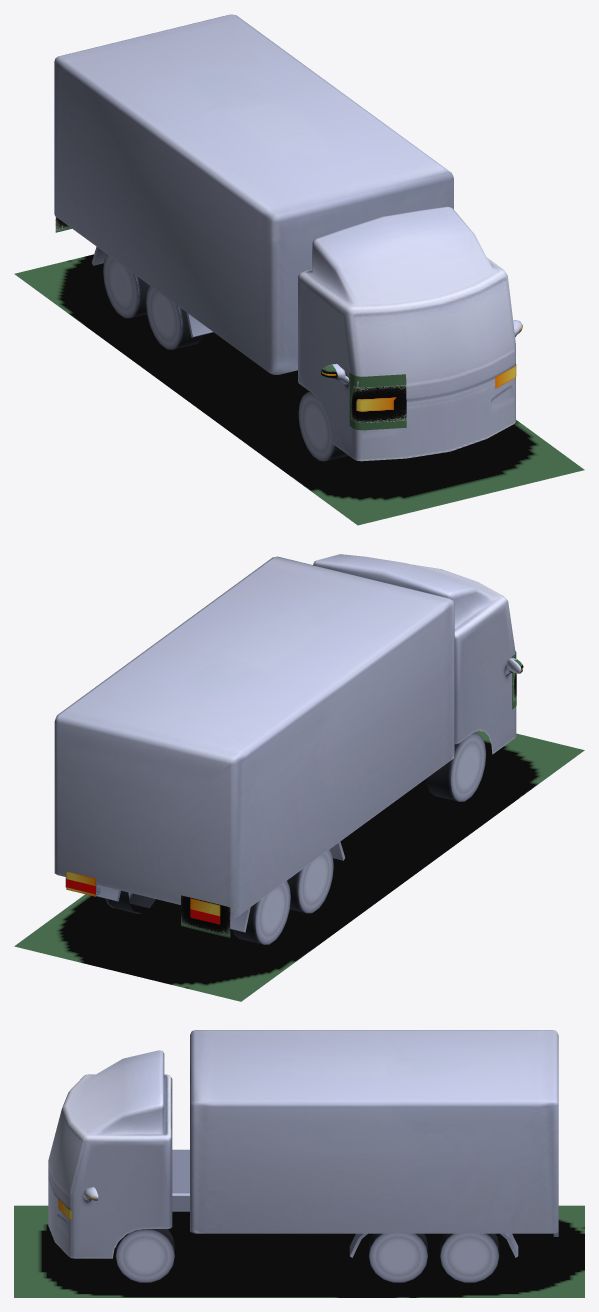
Rendered from VAN.fbx.
3 renders of one model, top to bottom at view 1: azimuth 30°, elevation 25°; view 2: azimuth 150°, elevation 25°; view 3: azimuth 270°, elevation 25°, orthographic. The views are drawn at different scales.
Parts seen in each view (by area): view 1: CA_Car, CA_Shadow, CA_RF, CA_RDirection, CA_WB_A, CA_WB_B, CA_W_RF; view 2: CA_Car, CA_Shadow, CA_RF, CA_WB_B, CA_W_RF, CA_WB_A, CA_RDirection; view 3: CA_Car, CA_Shadow, CA_LF, CA_W_LF, CA_WB_B, CA_WB_A.
Boxes of the visible parts, box(x1,y1,x2,y2) form: CA_Car: box(54, 14, 515, 461); CA_Shadow: box(14, 254, 584, 525); CA_RF: box(301, 286, 350, 435); CA_RDirection: box(55, 217, 406, 430); CA_WB_A: box(146, 286, 204, 349); CA_WB_B: box(103, 254, 149, 318); CA_W_RF: box(298, 392, 348, 461); CA_Car: box(54, 554, 516, 932); CA_Shadow: box(14, 731, 584, 1001); CA_RF: box(462, 611, 521, 730); CA_WB_B: box(105, 881, 290, 944); CA_W_RF: box(426, 732, 486, 801); CA_WB_A: box(287, 849, 333, 913); CA_RDirection: box(181, 651, 523, 937); CA_Car: box(48, 1030, 558, 1258); CA_Shadow: box(14, 1205, 584, 1297); CA_LF: box(81, 1146, 162, 1241); CA_W_LF: box(115, 1229, 174, 1282); CA_WB_B: box(440, 1233, 499, 1282); CA_WB_A: box(369, 1233, 427, 1282).
Bounding box in the file's own units: 2.9 × 2.74 × 7.6.
